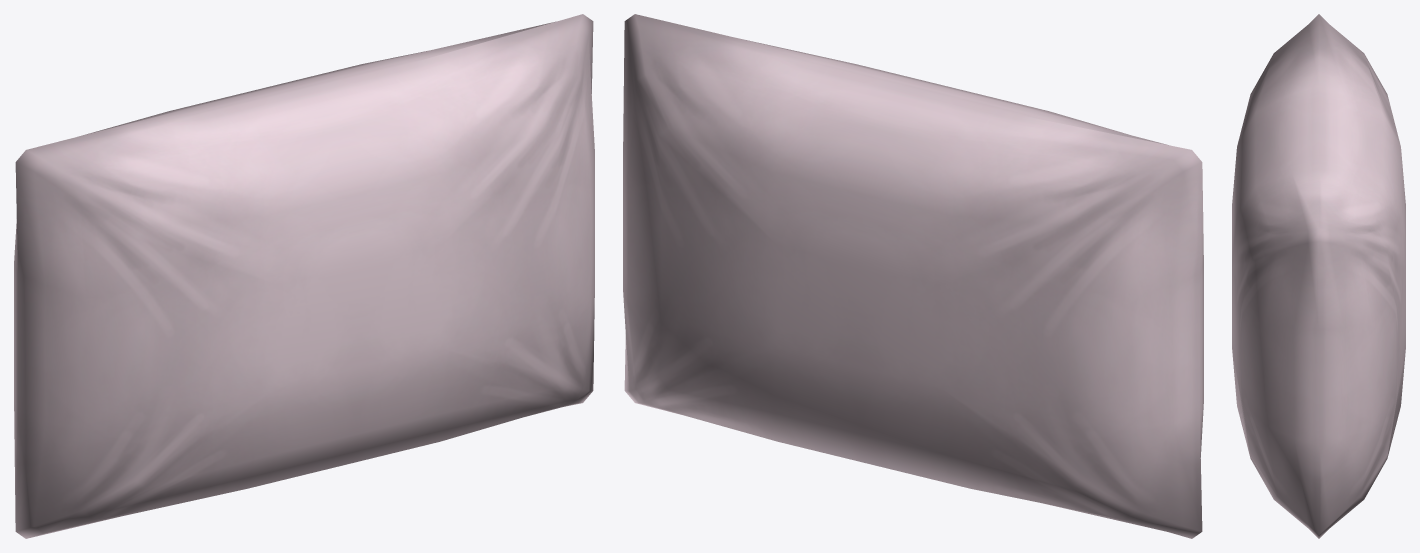
File: Pillow.fbx
The picture shows the model from 3 angles, left to right: view 1: azimuth 30°, elevation 25°; view 2: azimuth 150°, elevation 25°; view 3: azimuth 270°, elevation 25°; orthographic projection. The views are drawn at different scales.
Parts seen in each view (by area): view 1: Pillow; view 2: Pillow; view 3: Pillow.
Boxes of the visible parts, box(x1,y1,x2,y2) form: Pillow: box(14, 14, 594, 538); Pillow: box(623, 14, 1203, 538); Pillow: box(1232, 14, 1405, 538).
Size of the model in its own units: 56.93 by 36.63 by 18.68.
